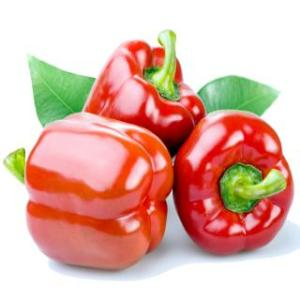bell_pepper: (17, 107, 166, 270), (170, 102, 296, 258), (81, 27, 211, 145)
